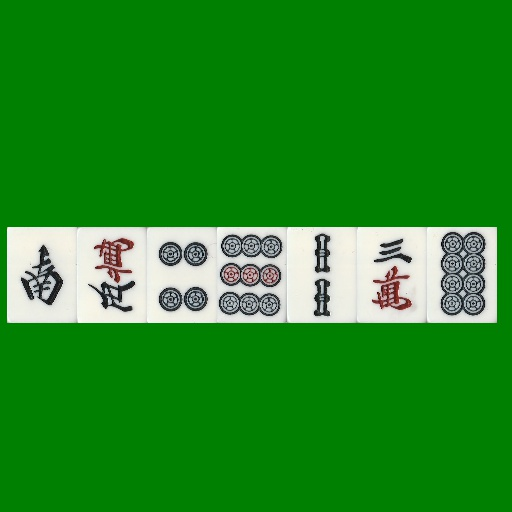2s: (287, 227, 357, 323)
3m: (357, 227, 427, 323)
4p: (147, 227, 217, 323)
5m: (77, 227, 147, 323)
8p: (427, 227, 497, 323)
9p: (217, 227, 287, 323)
south: (7, 227, 77, 323)
